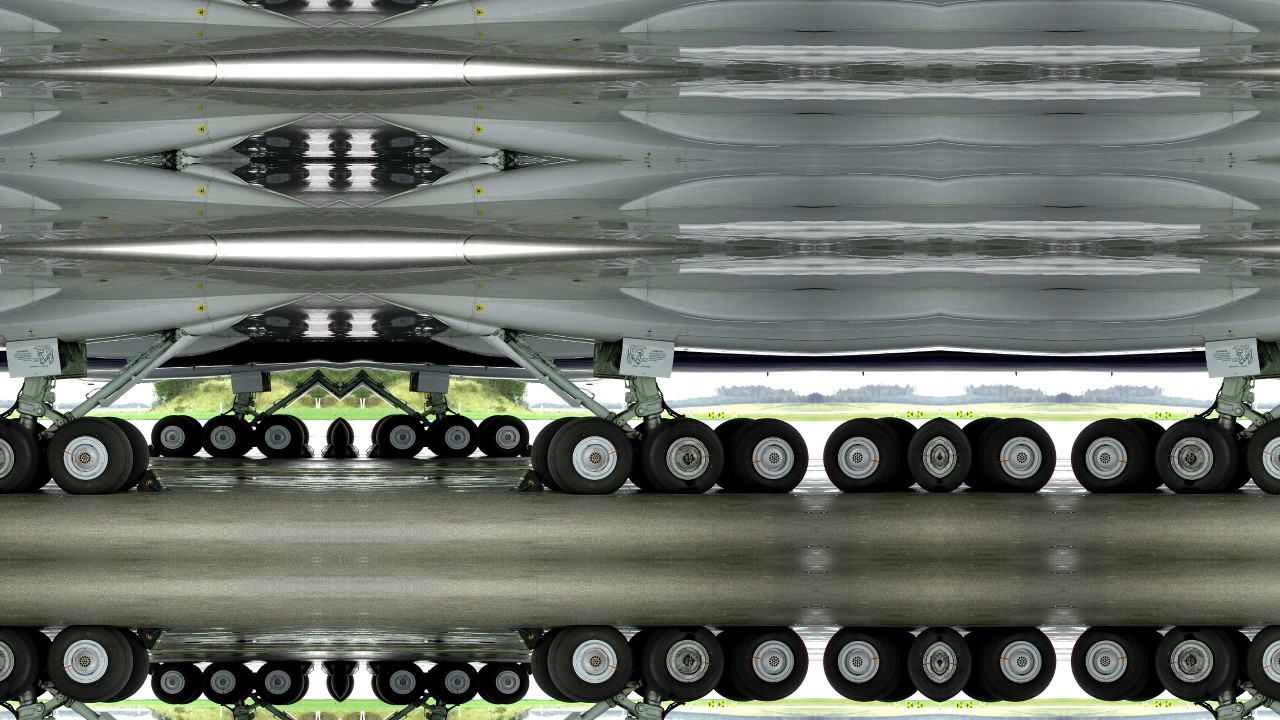chock: (135, 467, 169, 493), (511, 467, 545, 493), (135, 627, 169, 653), (511, 627, 545, 653), (294, 443, 316, 459), (364, 443, 386, 459), (294, 661, 316, 677), (364, 661, 386, 677), (319, 443, 340, 459), (340, 443, 361, 459), (319, 661, 340, 677), (340, 661, 361, 677), (146, 443, 160, 458), (520, 443, 534, 458), (146, 662, 160, 677), (520, 662, 534, 677)
wheel: (45, 416, 135, 496), (545, 416, 635, 496), (45, 624, 135, 704), (545, 624, 635, 704), (641, 417, 726, 496), (1154, 417, 1239, 496), (641, 624, 726, 703), (1154, 624, 1239, 703), (731, 417, 810, 495), (1070, 417, 1149, 495), (731, 625, 810, 703), (1070, 625, 1149, 703), (822, 417, 902, 494), (978, 417, 1058, 494), (822, 626, 902, 703), (978, 626, 1058, 703), (0, 417, 39, 496), (0, 624, 39, 703), (1245, 416, 1280, 496), (1245, 624, 1280, 704), (907, 416, 940, 495), (940, 416, 973, 495), (907, 625, 940, 704), (940, 625, 973, 704), (253, 415, 303, 459), (377, 415, 427, 459), (253, 661, 303, 705), (377, 661, 427, 705), (201, 416, 250, 459), (430, 416, 479, 459), (201, 661, 250, 704), (430, 661, 479, 704), (151, 413, 198, 457), (482, 413, 529, 457), (151, 663, 198, 707), (482, 663, 529, 707)
